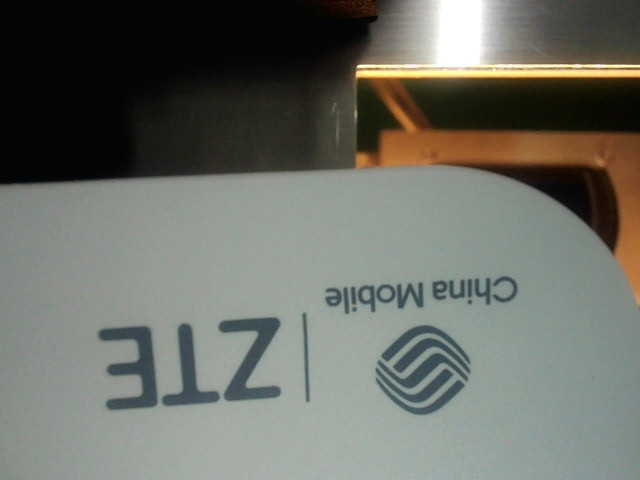AL_ZTEChinaMobile: (81, 271, 533, 421)
